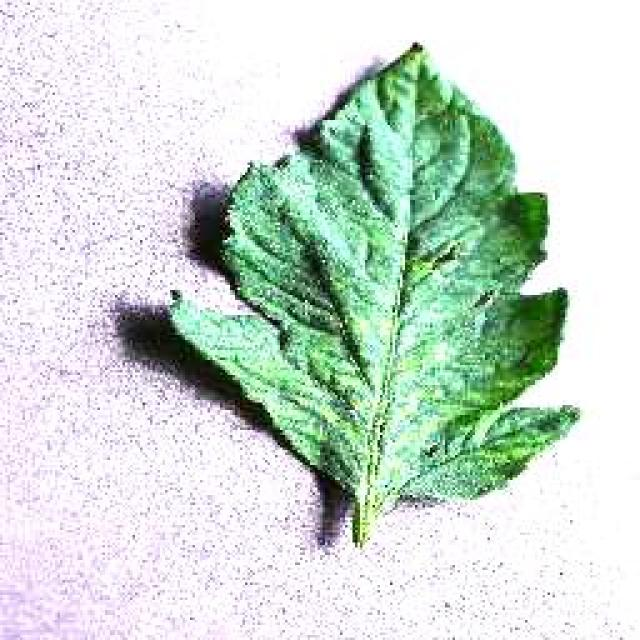Tomato___Tomato_mosaic_virus: (170, 45, 578, 545)
